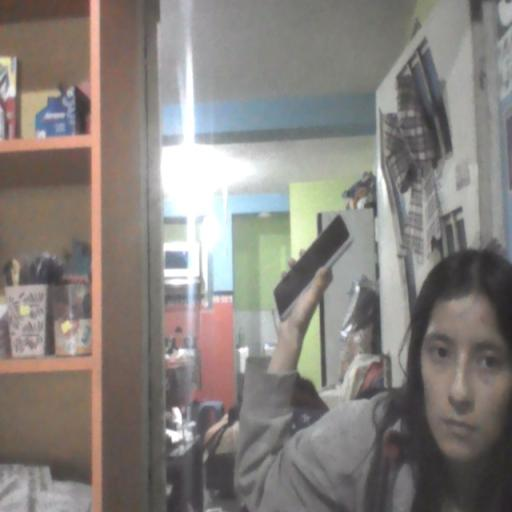phone: (265, 207, 357, 320)
